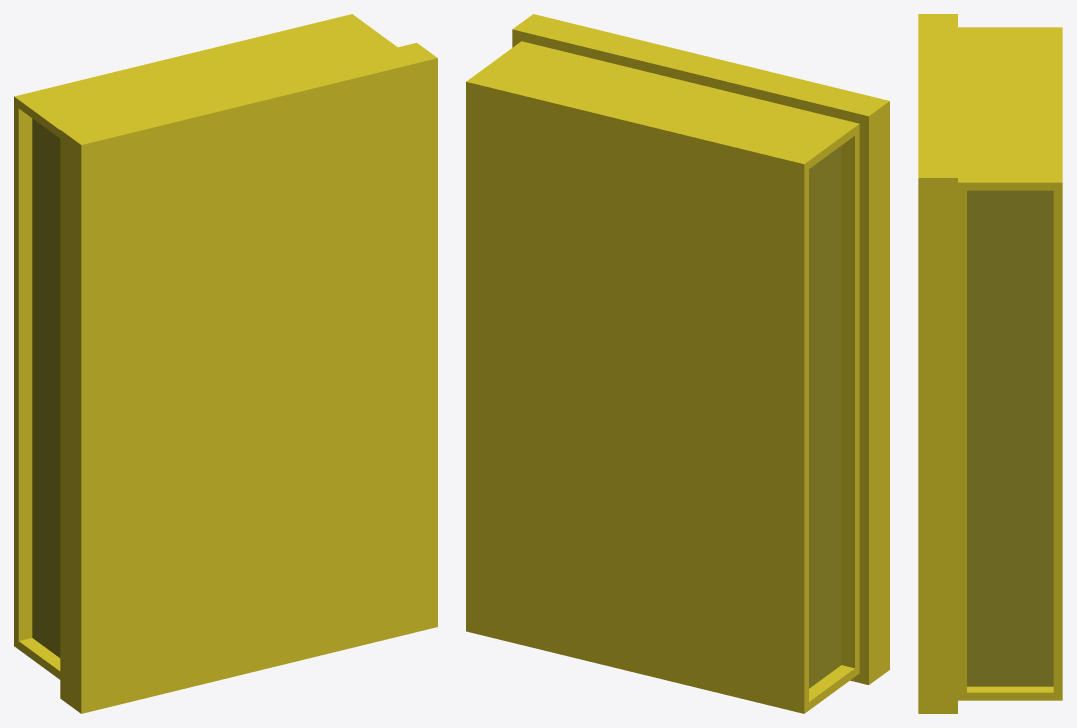
Rendered from electric box.fbx.
The picture shows the model from 3 angles, left to right: view 1: azimuth 30°, elevation 25°; view 2: azimuth 150°, elevation 25°; view 3: azimuth 270°, elevation 25°; orthographic projection. The views are drawn at different scales.
Parts seen in each view (by area): view 1: Cube; view 2: Cube; view 3: Cube.
Boxes of the visible parts, bbox=[...] form: Cube: bbox=[14, 14, 437, 713]; Cube: bbox=[466, 14, 889, 713]; Cube: bbox=[918, 14, 1062, 713].
Bounding box in the file's own units: 179 × 273 × 66.43.
